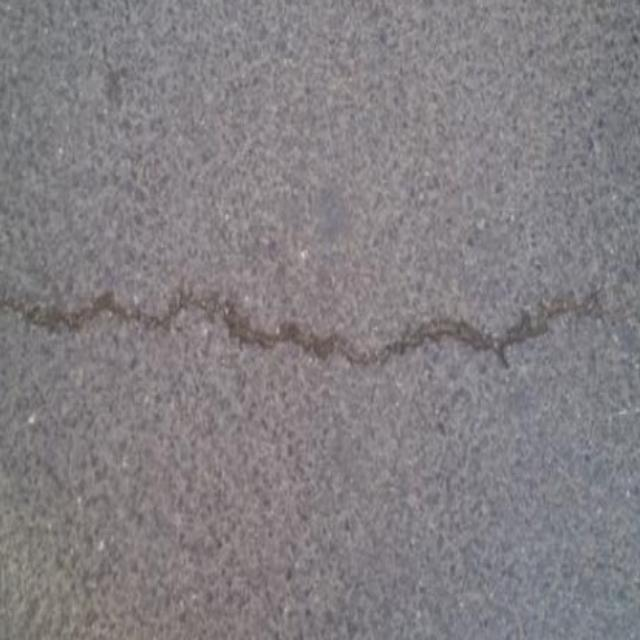GRIETA: (0, 287, 600, 366)
